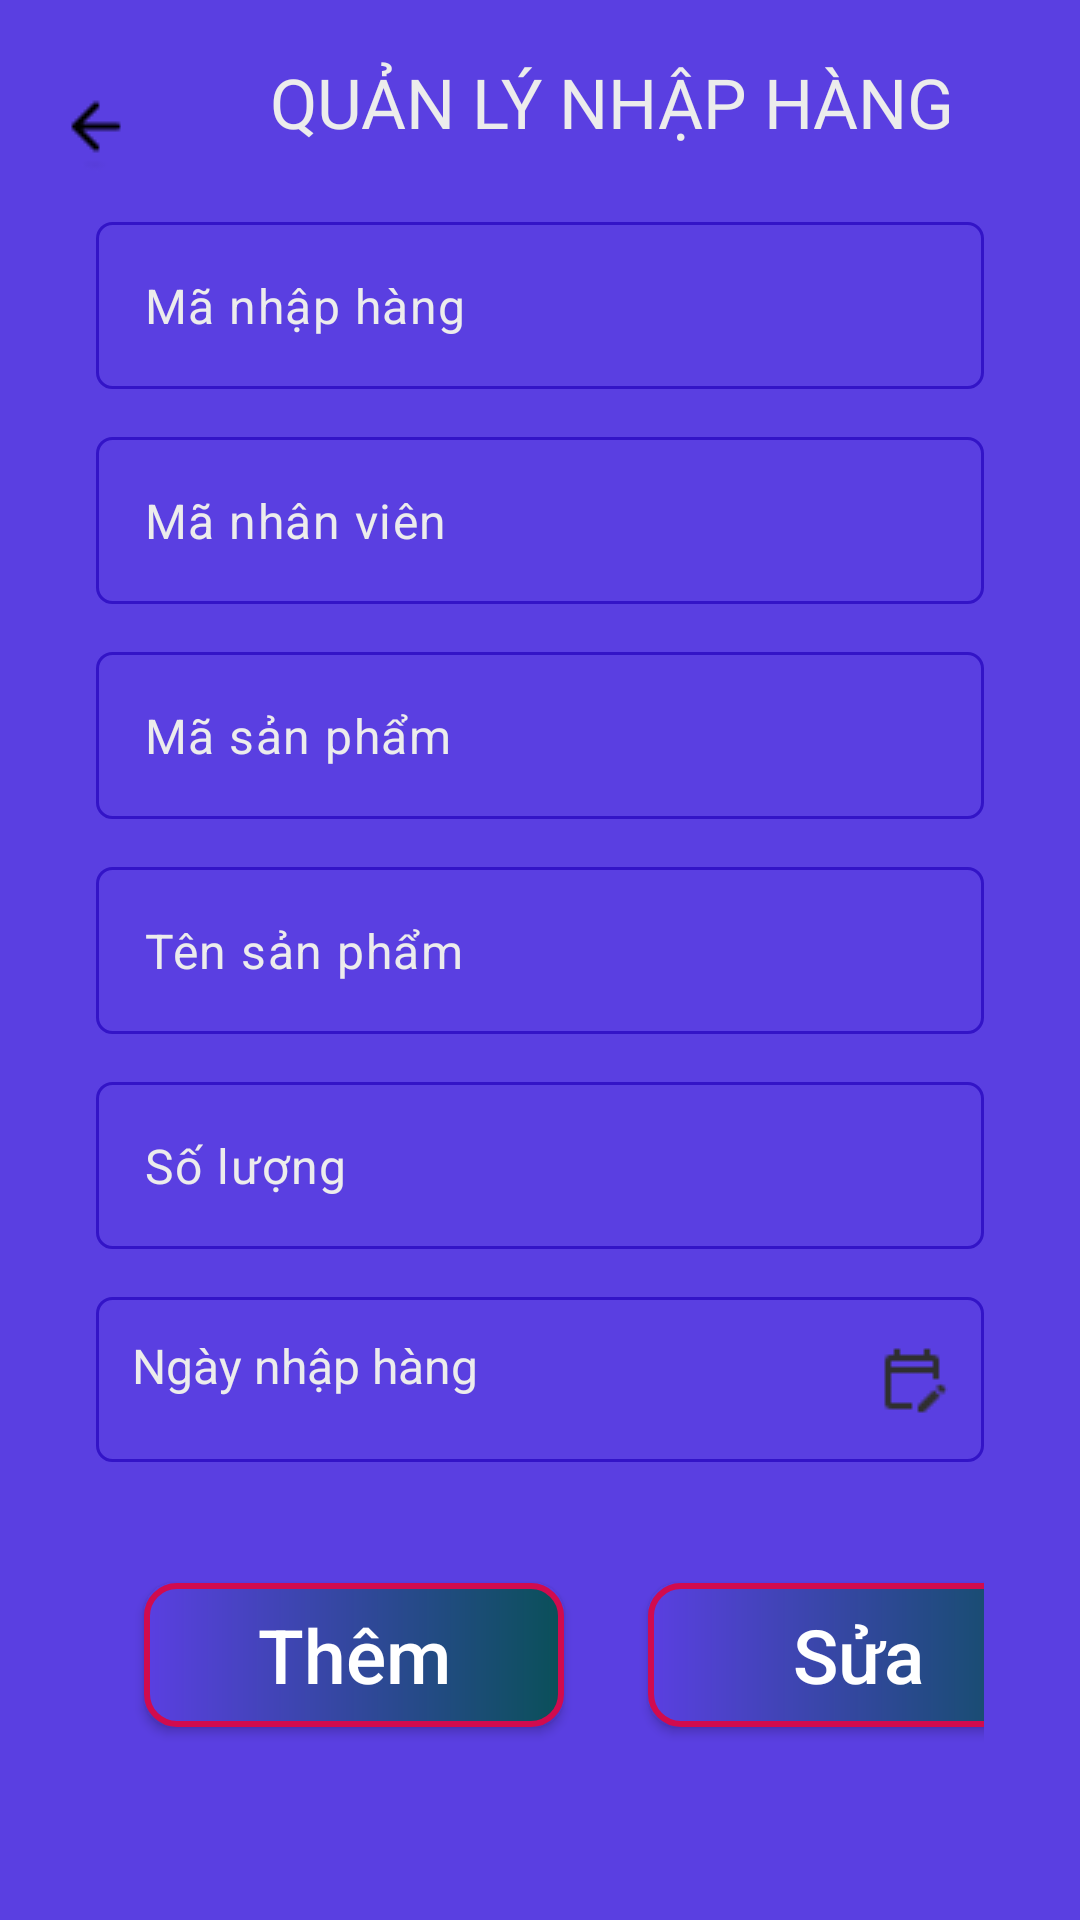

Named icons in this screenshot (1080px x 1920px) and their bounding boxes, box=[x1, y1, x2, y2]:
arrow left: box=[71, 100, 121, 153]
